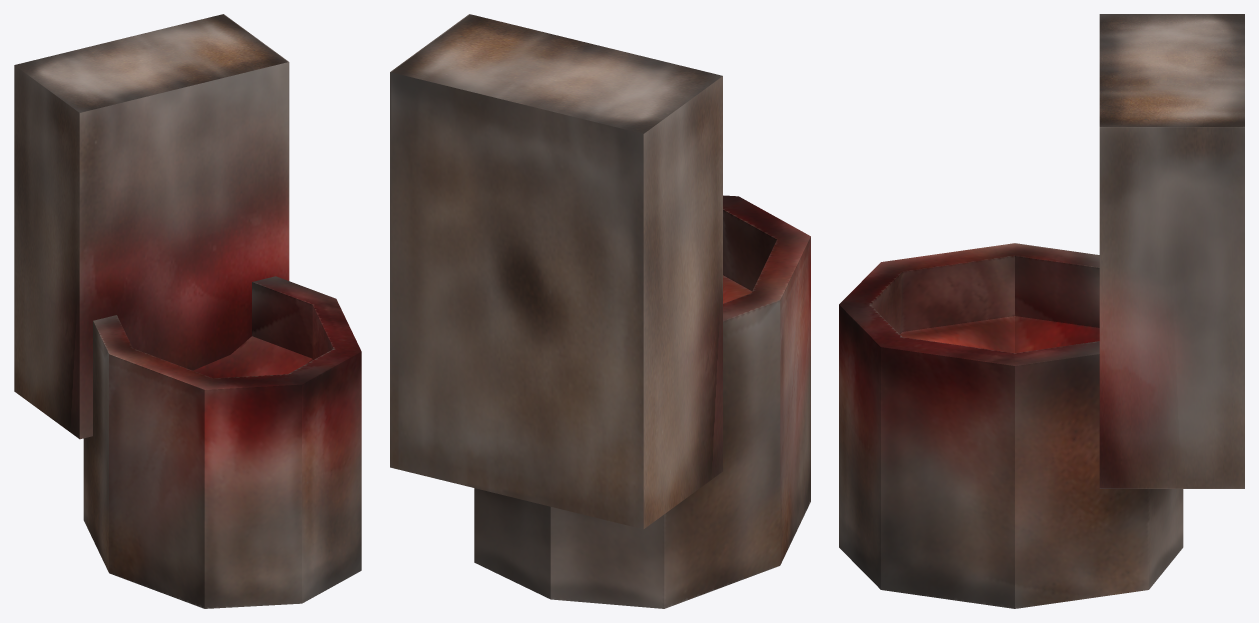
The model's file is Toilet.fbx.
3 views of the same model, side by side, from view 1: azimuth 30°, elevation 25°; view 2: azimuth 150°, elevation 25°; view 3: azimuth 270°, elevation 25° (orthographic). The views are drawn at different scales.
Visible parts, largest first — view 1: Cube.003, Cube.002; view 2: Cube.003, Cube.002; view 3: Cube.002, Cube.003.
Boxes of the visible parts, x1,y1,x2,y2 form: Cube.003: [14, 14, 289, 439]; Cube.002: [83, 276, 361, 608]; Cube.003: [390, 14, 722, 529]; Cube.002: [474, 195, 810, 608]; Cube.002: [839, 243, 1183, 608]; Cube.003: [1099, 14, 1244, 488].
Bounding box in the file's own units: 217 × 393 × 303.
